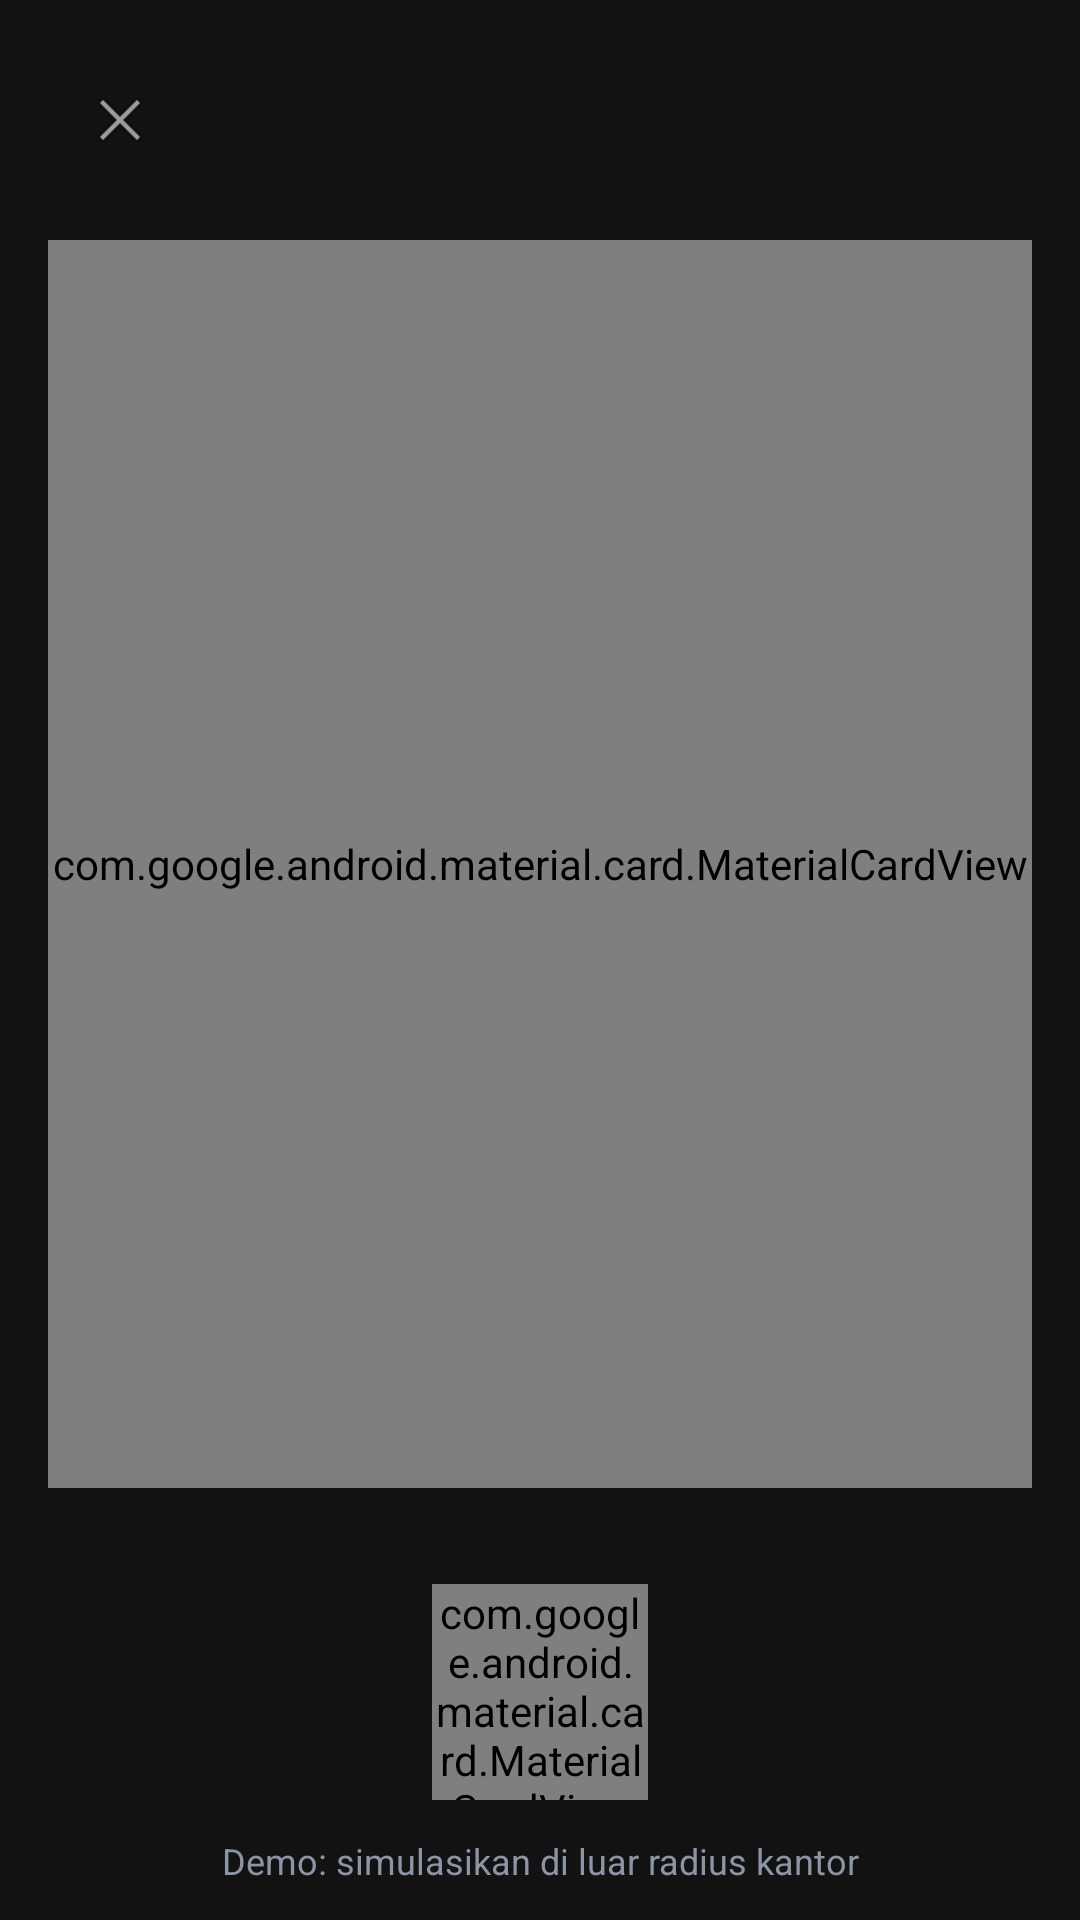

Where to tap for icons on this 1080x1920 app screen, as (x=x, y=y):
close clear cancel: (x=120, y=120)
